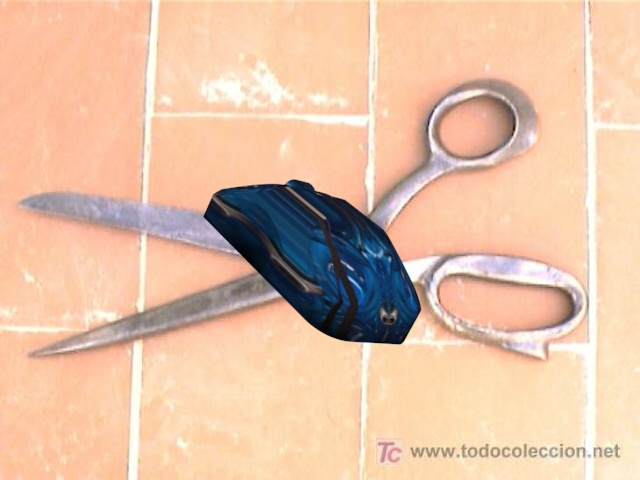mouse: (193, 176, 433, 353)
